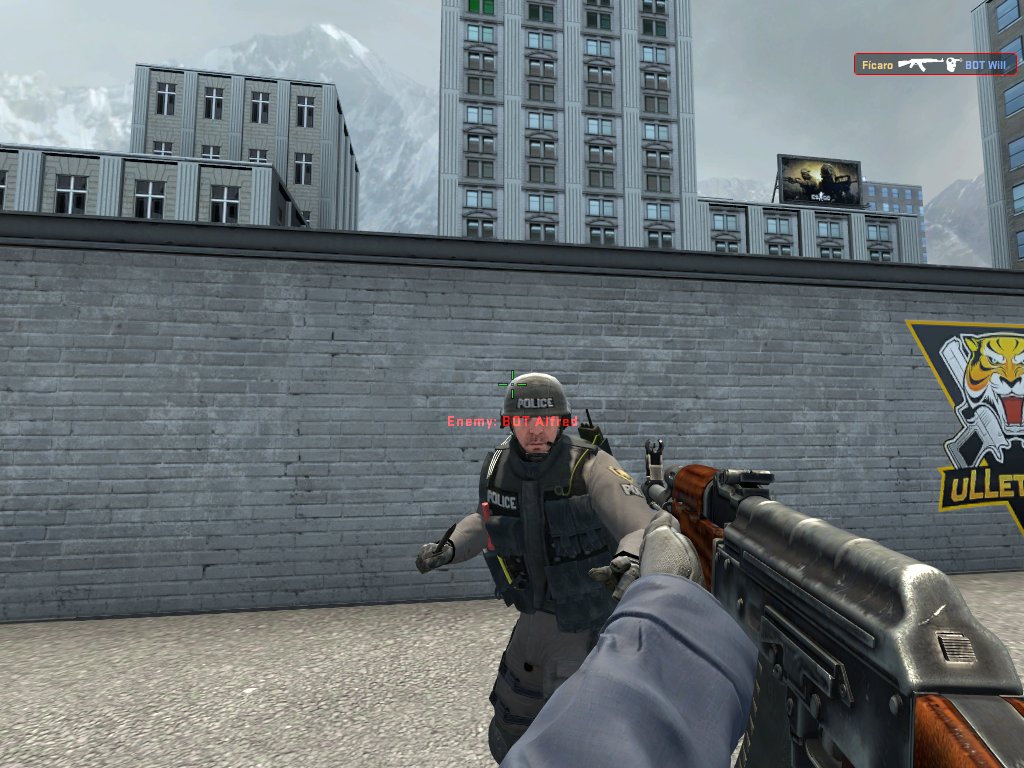ct head: (499, 371, 574, 462)
